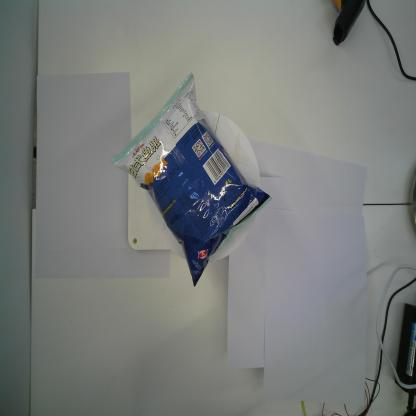Puffed Food: (109, 70, 272, 286)
